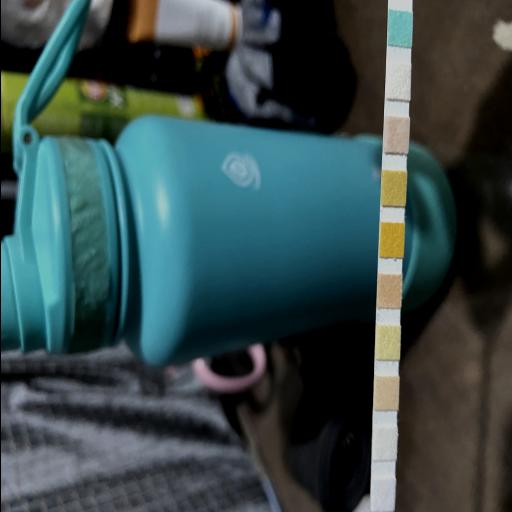Bilirubin: (386, 64, 410, 100)
Blood: (380, 222, 403, 258)
Glucose: (388, 11, 412, 46)
Ketone: (384, 117, 408, 153)
Leukocytes: (370, 478, 394, 512)
Nitrite: (372, 428, 396, 460)
Protein: (375, 326, 399, 360)
SpGravity: (381, 171, 405, 206)
Urobilinogen: (374, 376, 398, 411)
pH: (377, 274, 401, 308)
strip: (370, 1, 413, 512)
